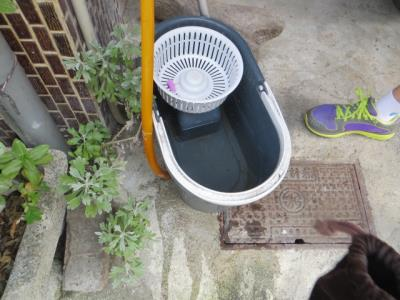bucket: (152, 14, 293, 213)
